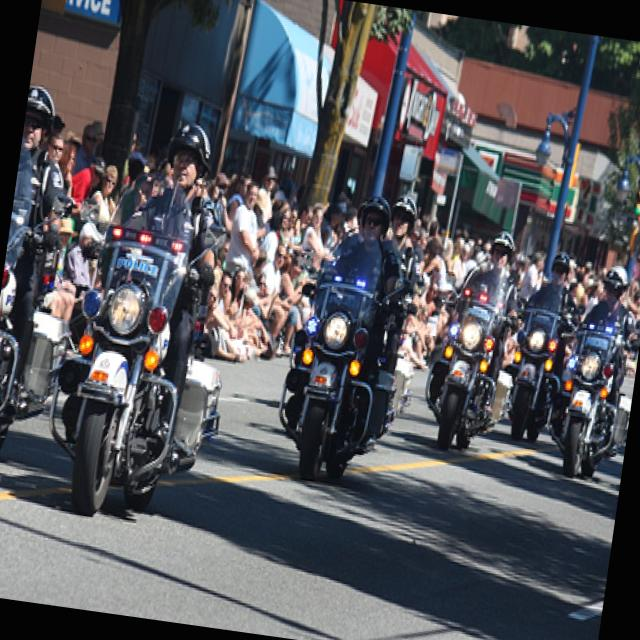Vehicle: (35, 166, 231, 526), (268, 228, 423, 490), (0, 144, 61, 458), (434, 260, 512, 446), (551, 320, 640, 483), (499, 295, 586, 447)
